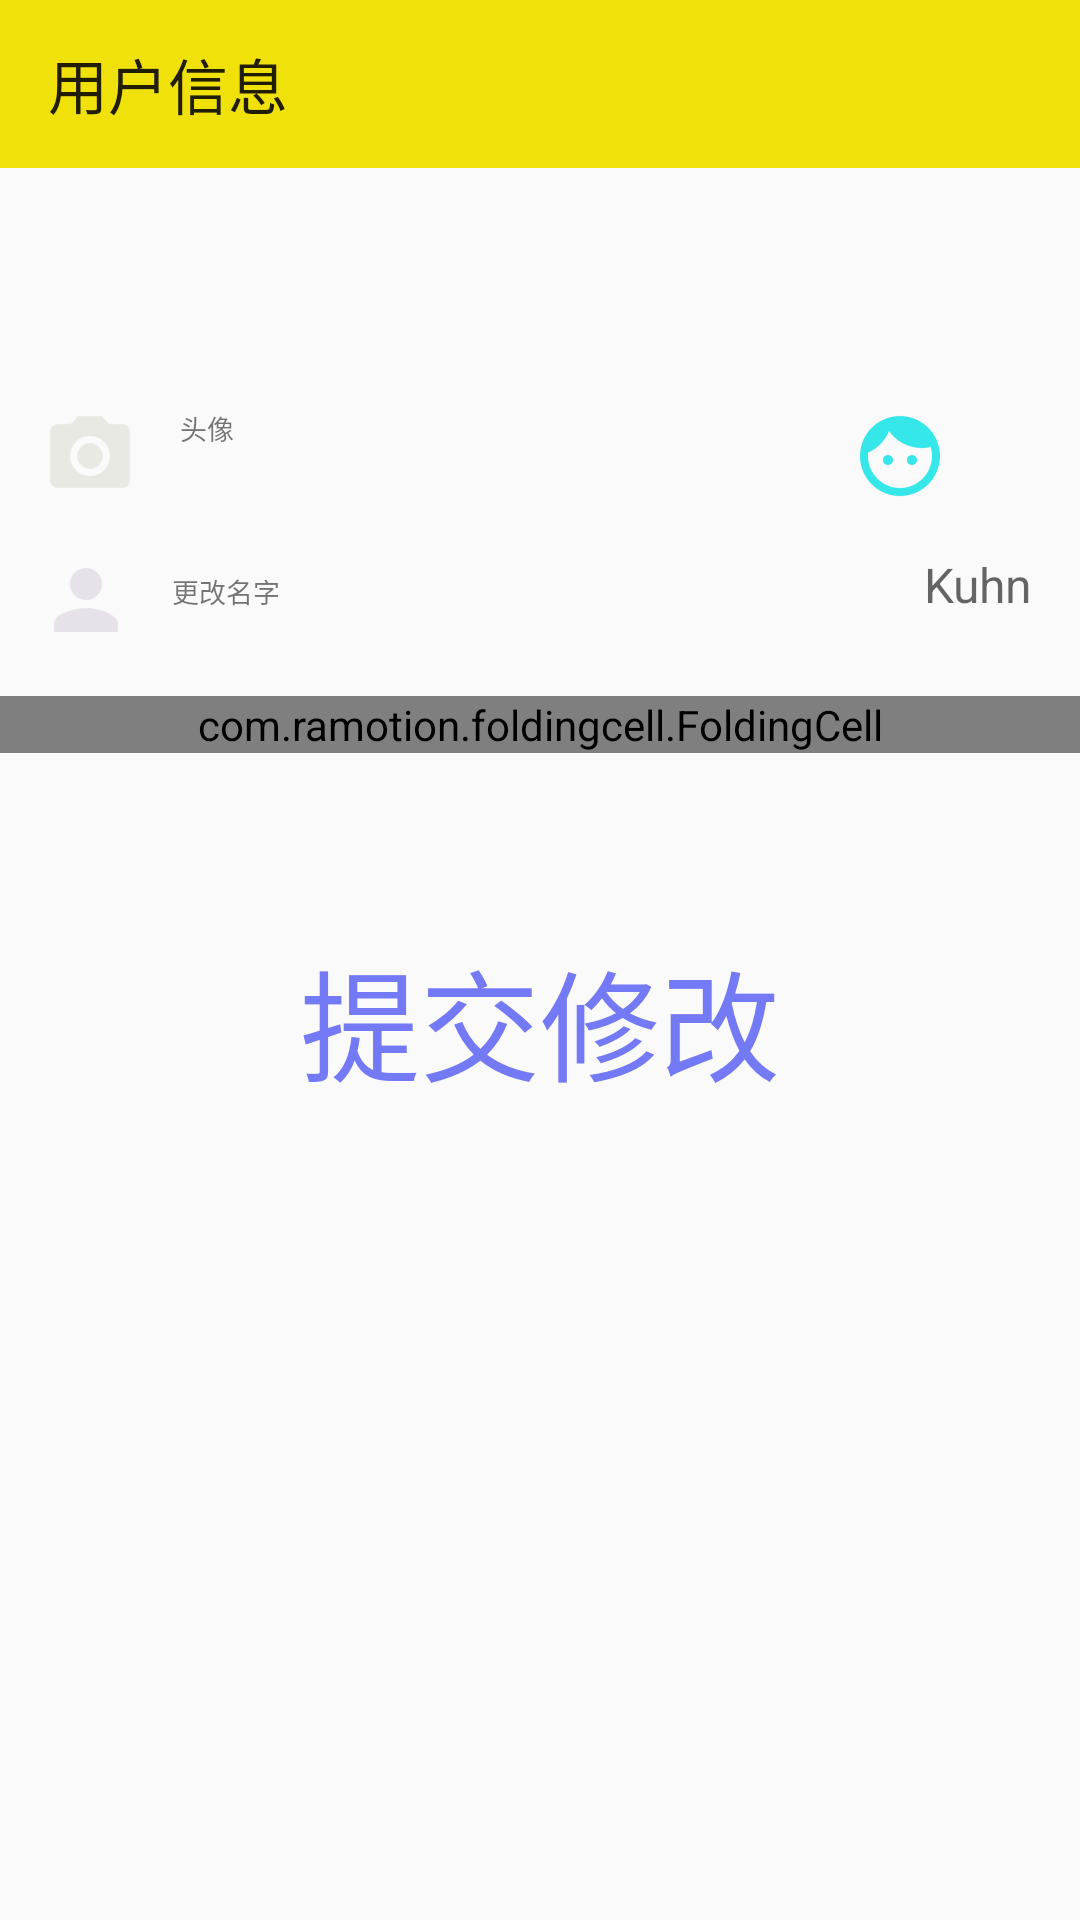

Named icons in this screenshot (1080x1920) and their bounding boxes, (x1, y1, x2, y2):
own: (860, 416, 940, 496)
